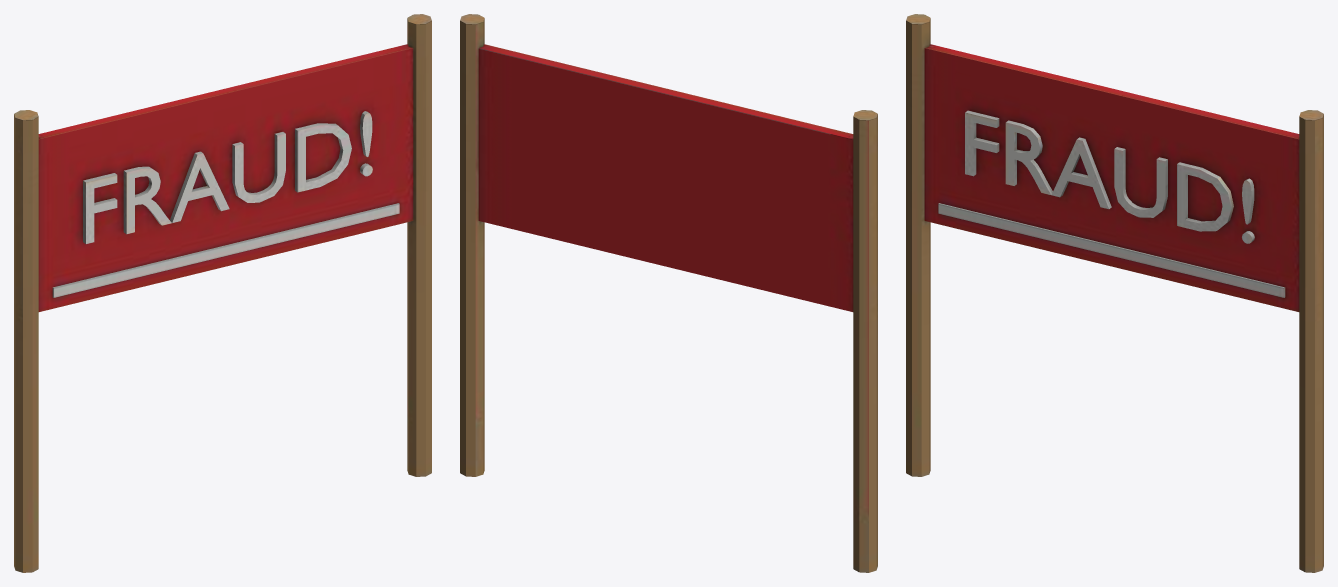
The model's file is cartel_fraude.glb.
3 renders of one model, left to right at view 1: azimuth 30°, elevation 25°; view 2: azimuth 150°, elevation 25°; view 3: azimuth 330°, elevation 25°, orthographic.
Visible parts, largest first — view 1: cartel_fraude; view 2: cartel_fraude; view 3: cartel_fraude.
Boxes of the visible parts, x1=… form: cartel_fraude: x1=14, y1=14, x2=431, y2=572; cartel_fraude: x1=460, y1=14, x2=877, y2=572; cartel_fraude: x1=906, y1=14, x2=1323, y2=572.
Size of the model in its own units: 2.64 by 2.75 by 0.14.
1 material, 1 textured.
